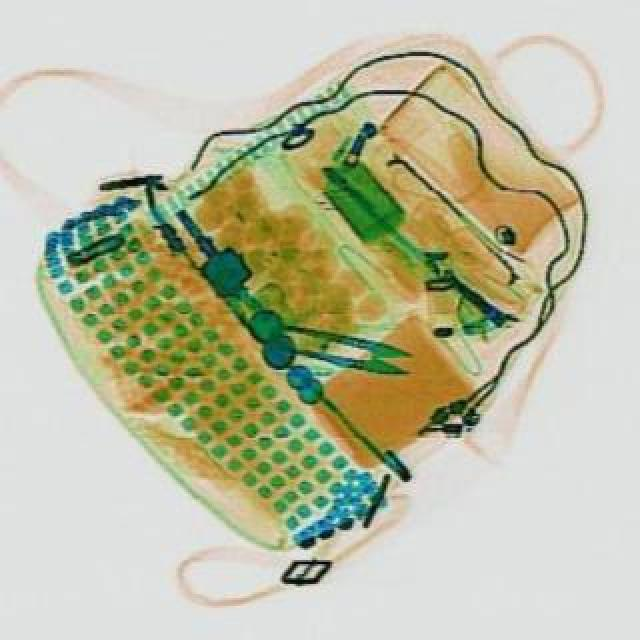pliers: (268, 320, 414, 376)
